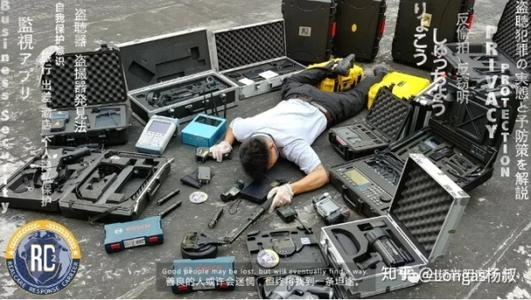falling: (201, 46, 397, 215)
